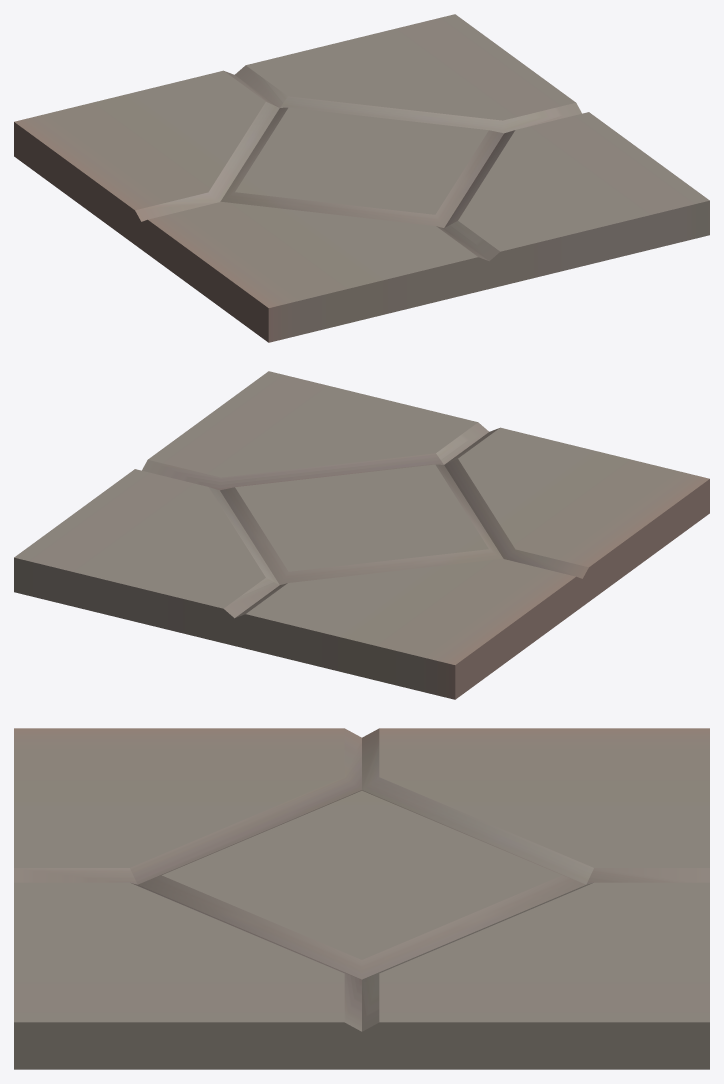
The model's file is floor_tile_small.glb.
3 views of the same model, one above another, from view 1: azimuth 30°, elevation 25°; view 2: azimuth 150°, elevation 25°; view 3: azimuth 270°, elevation 25° (orthographic). The views are drawn at different scales.
Visible parts, largest first — view 1: floor_tile_small; view 2: floor_tile_small; view 3: floor_tile_small.
Boxes of the visible parts, left/top/right/bottom form: floor_tile_small: left=14, top=14, right=709, bottom=342; floor_tile_small: left=14, top=371, right=709, bottom=699; floor_tile_small: left=14, top=728, right=709, bottom=1069.
Bounding box in the file's own units: 2 × 0.1499 × 2.
Materials: 1 (1 with a texture image).
